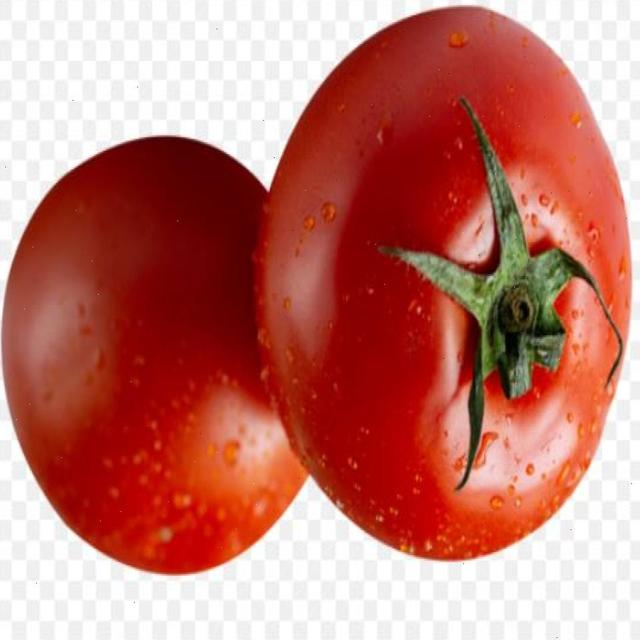Healthy Fruit: (105, 187, 293, 375)
